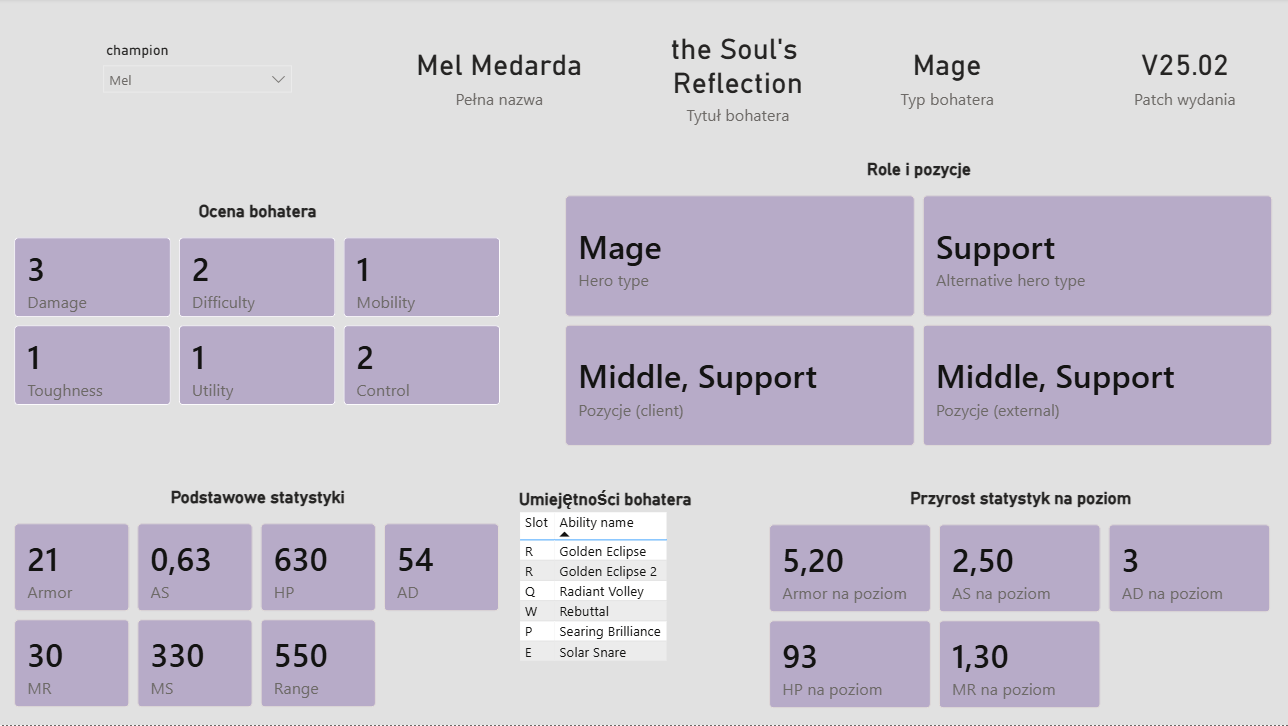

What the dashboard file says about the page in this screenshot:
{"tool":"powerbi","page":{"name":"Dane o bohaterze","canvas":[1280,720],"ordinal":4},"visuals":[{"type":"slicer","fields":{"Values":["champion.name"]},"box":[95,38.7,206.5,71.8],"z":0},{"type":"card","fields":{"Values":["_Miary.Pełna nazwa"]},"box":[394.3,0,206.5,150.2],"z":1000},{"type":"card","fields":{"Values":["_Miary.Tytuł championa"]},"box":[629.5,0,207.6,150.2],"z":2000},{"type":"card","fields":{"Values":["_Miary.Patch wydania"]},"box":[1072.4,0,207.6,150.2],"z":3000},{"type":"card","fields":{"Values":["_Miary.Typ bohatera"]},"box":[837.1,0,206.5,150.2],"z":4000},{"type":"cardVisual","title":"Podstawowe statystyki","fields":{"Data":["_Miary.arm_base","_Miary.as_base","_Miary.HP","_Miary.dam_base","_Miary.mr_base","_Miary.ms","_Miary.range"]},"box":[0,484.4,516.2,235.6],"z":5000},{"type":"cardVisual","title":"Ocena bohatera","fields":{"Data":["_Miary.Damage championa","_Miary.Difficulty championa","_Miary.Mobility championa","_Miary.Toughness championa","_Miary.Utility championa","_Miary.Control championa"]},"box":[0,200.5,516.2,219.2],"z":6000},{"type":"tableEx","title":"Umiejętności bohatera","fields":{"Values":["skill_snapshot.slot","skill_snapshot.name"]},"box":[511.3,484.8,236.3,235.2],"z":8000},{"type":"cardVisual","title":"Role i pozycje","fields":{"Data":["Min(v_champion_roles_positions.hero_type)","Min(v_champion_roles_positions.alternative_hero_type)","_Miary.Pozycje (client)","_Miary.Pozycje (external)"]},"box":[545.6,159,734.4,301.5],"z":9000},{"type":"cardVisual","title":"Przyrost statystyk na poziom","fields":{"Data":["_Miary.Armor na poziom","_Miary.AS na poziom","_Miary.DMG na poziom","_Miary.HP na poziom","_Miary.MR na poziom"]},"box":[747.7,484.8,532.3,235.2],"z":9001}]}

Visuals, with their boxes in screenshot pixels (x1, y1, x2, y2), scaled from the page's 1280x720 canvas onto the 1288x726 screenshot:
slicer - champion.name: [left=96, top=39, right=303, bottom=111]
card - _Miary.Pełna nazwa: [left=397, top=0, right=605, bottom=151]
card - _Miary.Tytuł championa: [left=633, top=0, right=842, bottom=151]
card - _Miary.Patch wydania: [left=1079, top=0, right=1287, bottom=151]
card - _Miary.Typ bohatera: [left=842, top=0, right=1050, bottom=151]
"Podstawowe statystyki" cardVisual: [left=0, top=488, right=519, bottom=725]
"Ocena bohatera" cardVisual: [left=0, top=202, right=519, bottom=423]
"Umiejętności bohatera" tableEx: [left=514, top=489, right=752, bottom=725]
"Role i pozycje" cardVisual: [left=549, top=160, right=1287, bottom=464]
"Przyrost statystyk na poziom" cardVisual: [left=752, top=489, right=1287, bottom=725]
